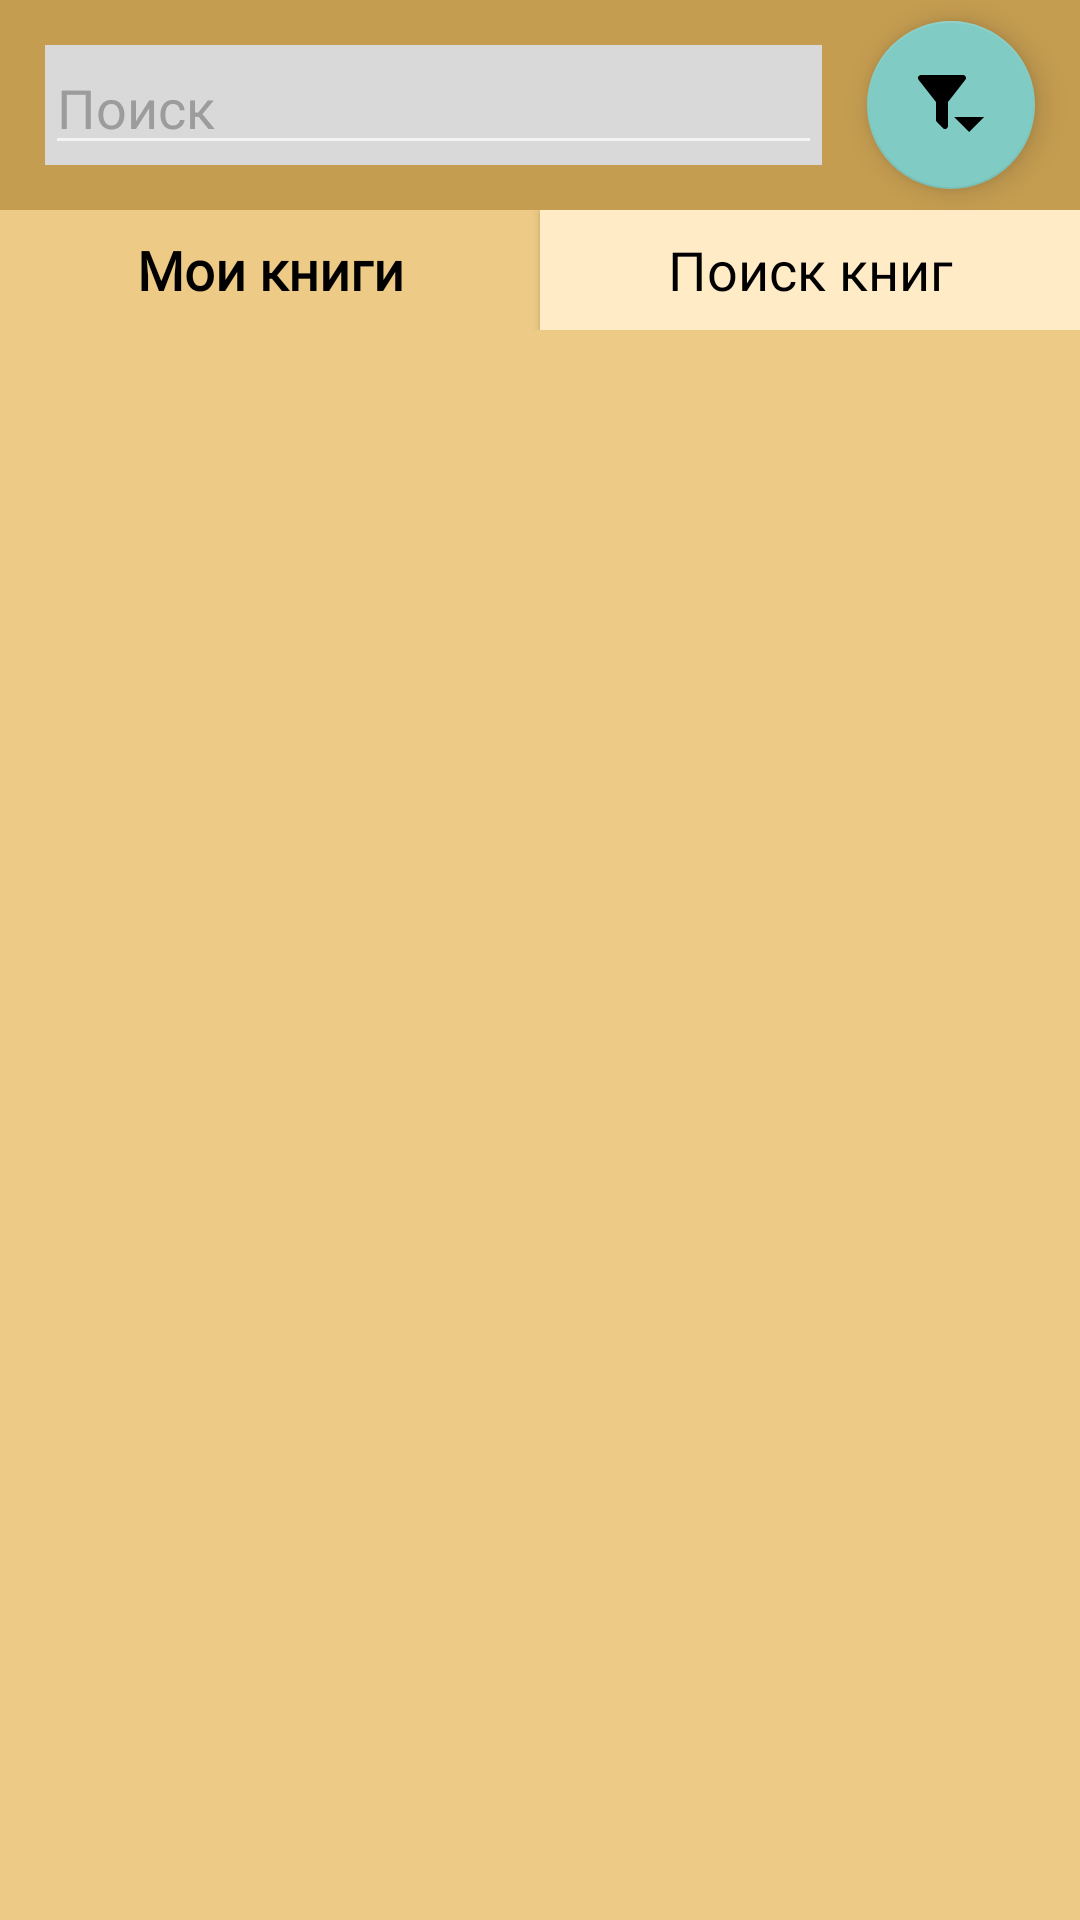

Icons on this 1080 x 1920 Android screen, each with its box as (x1, y1, x2, y2):
filter: (867, 21, 1035, 189)
